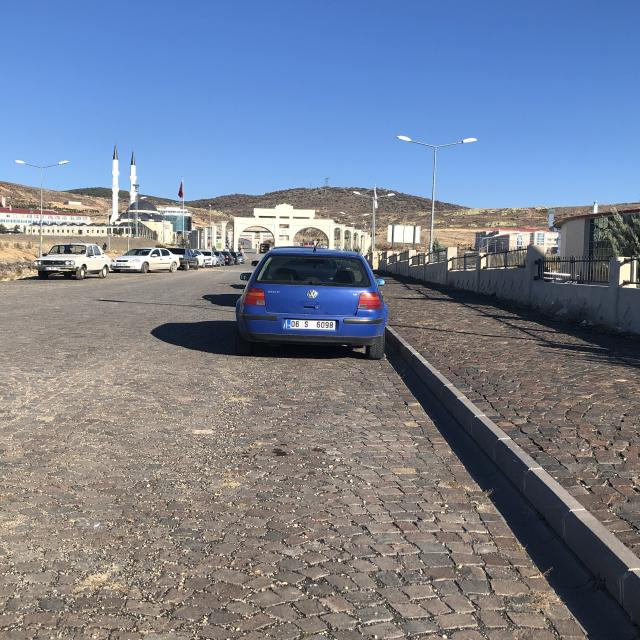license_plate: (286, 319, 335, 330)
